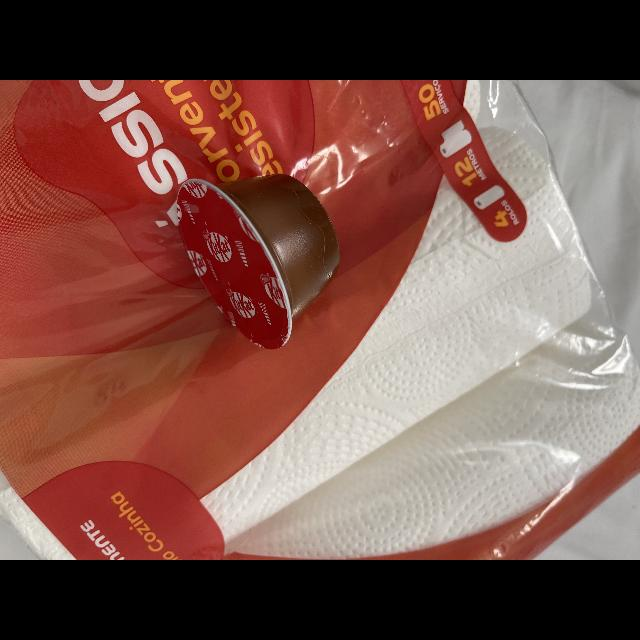intact_capsule: (164, 165, 360, 363)
